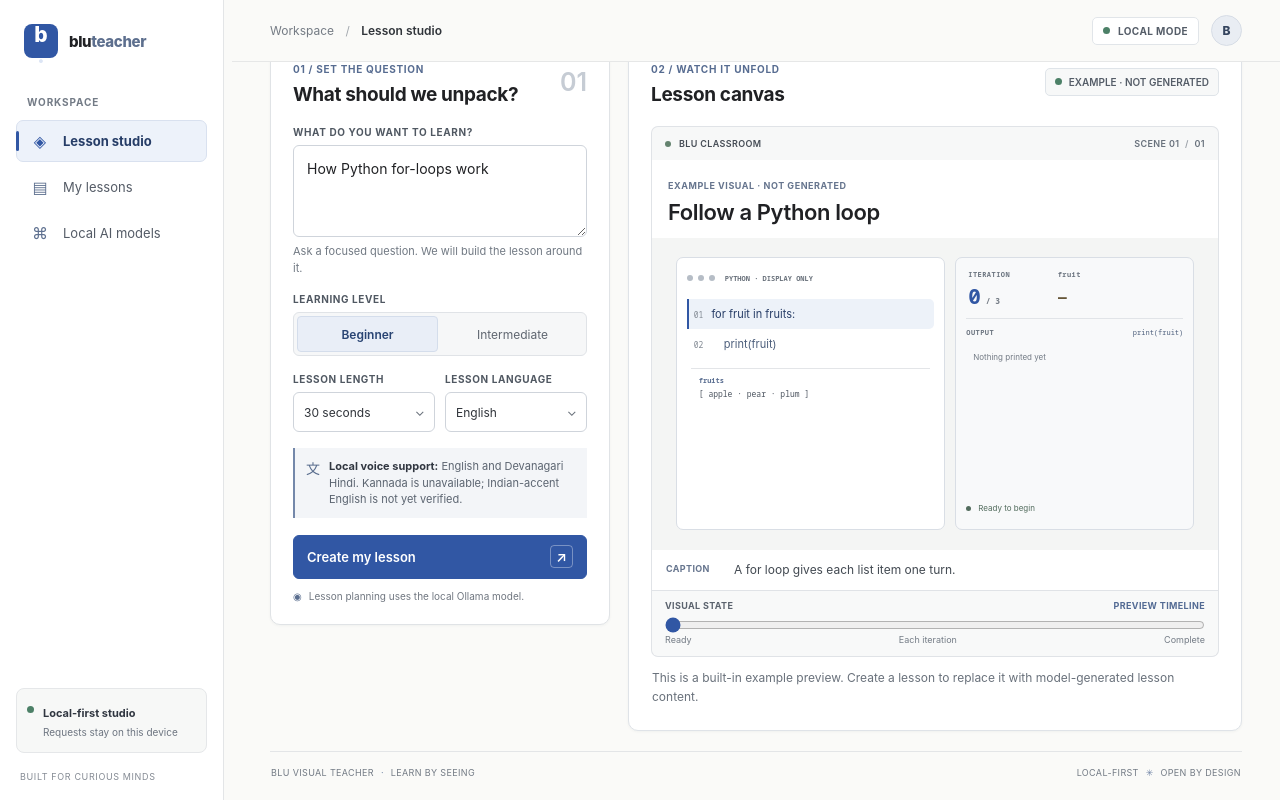
Scenario: lesson studio API integration › rejects a lesson response whose source and fallback status disagree
(page scrolled)
Click the button "Create my lesson ↗": (361,556) [293,534,587,578]
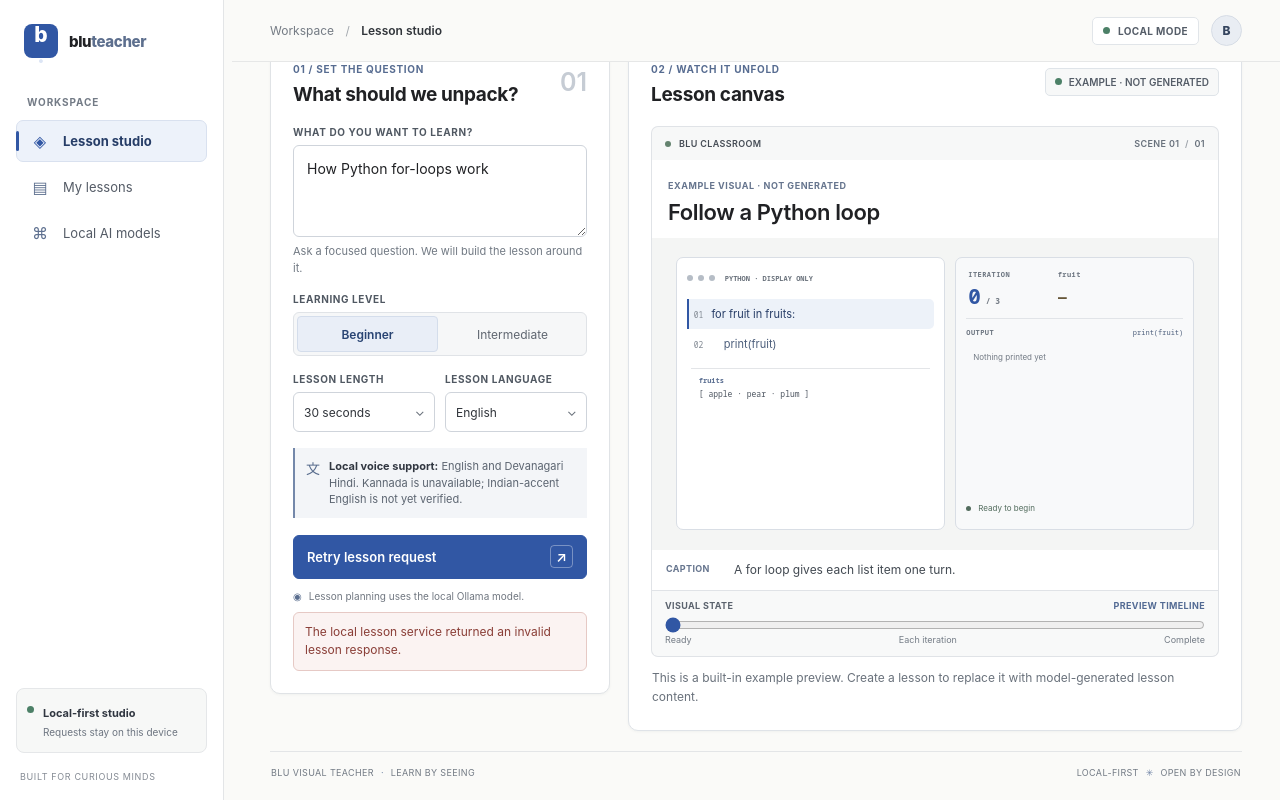
Check: the message shows "invalid lesson response", box [305,624,551,657]
